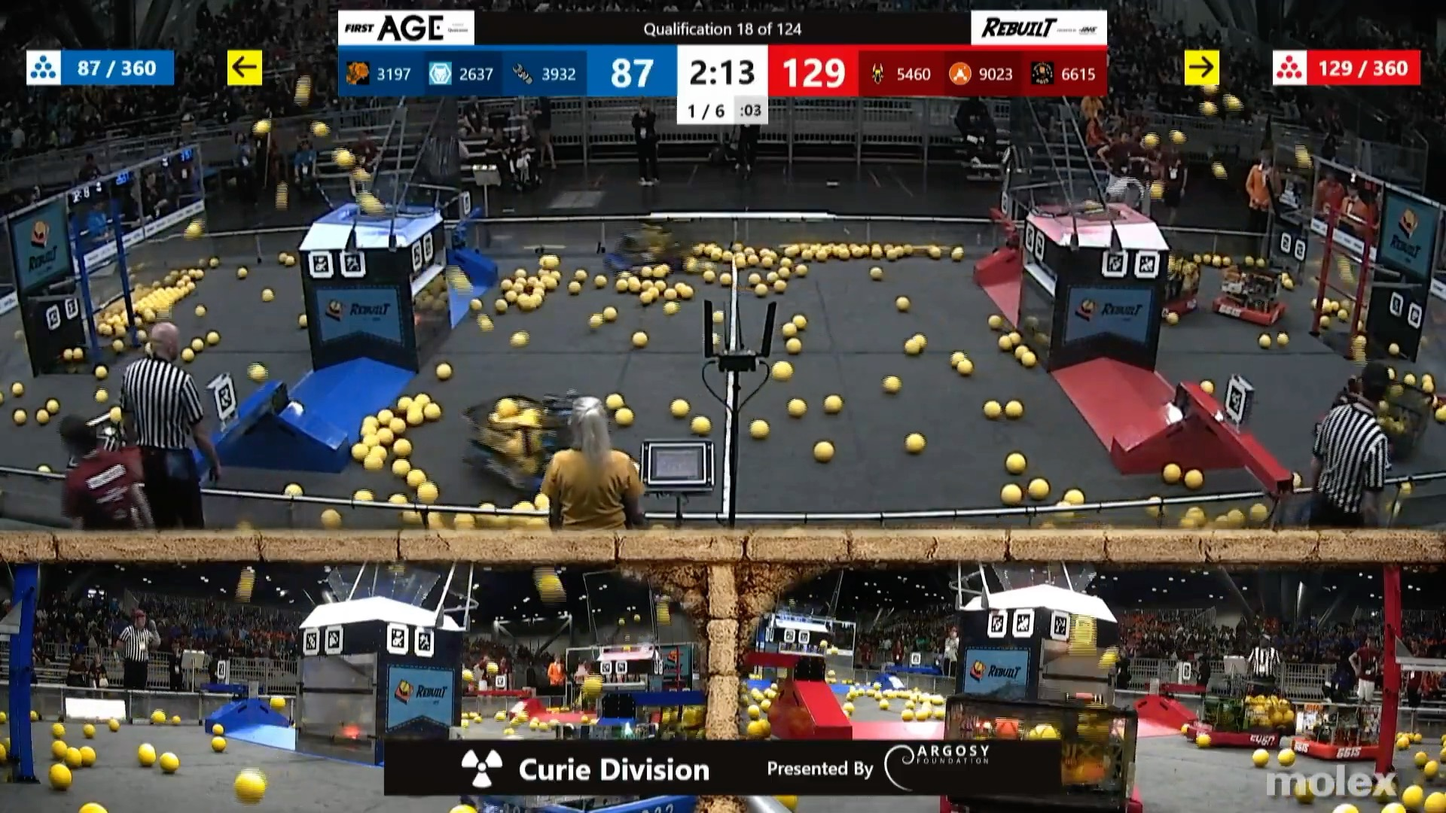bumpers: (465, 429, 607, 493), (1176, 703, 1291, 757), (451, 789, 697, 813), (1281, 723, 1391, 768), (1198, 284, 1292, 330), (599, 246, 685, 283), (1161, 295, 1202, 327)
